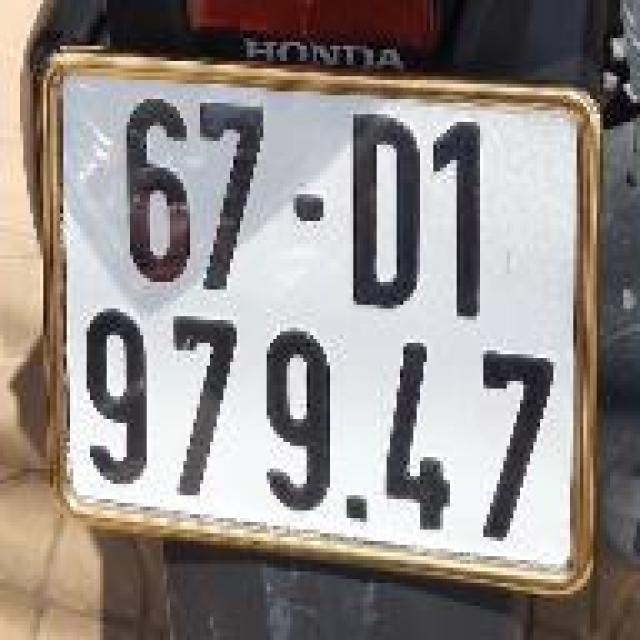1: (422, 114, 498, 324)
4: (383, 332, 460, 534)
6: (122, 93, 195, 288)
7: (470, 335, 553, 545), (194, 88, 274, 297), (165, 306, 238, 508)
9: (257, 320, 350, 522), (75, 303, 152, 497)
D: (343, 101, 430, 326)
